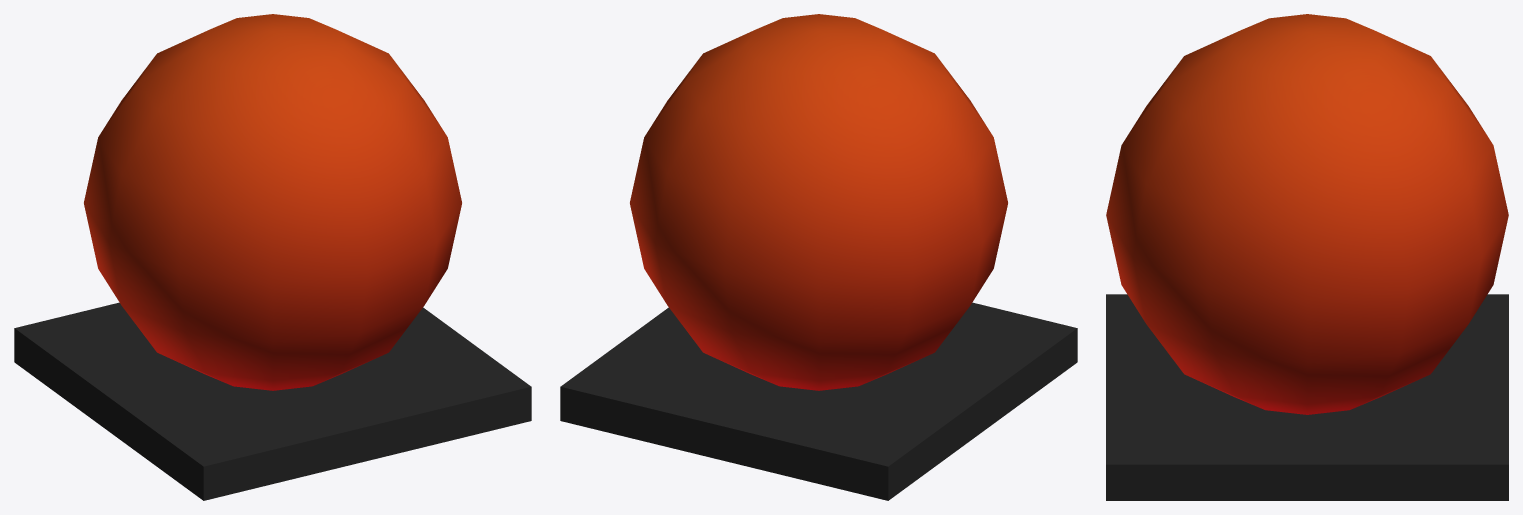
3 views of the same model, side by side, from view 1: azimuth 30°, elevation 25°; view 2: azimuth 150°, elevation 25°; view 3: azimuth 270°, elevation 25° (orthographic). The views are drawn at different scales.
Visible parts, largest first — view 1: Body, Trim; view 2: Body, Trim; view 3: Body, Trim.
Boxes of the visible parts, <box> form: Body: <box>84,14,461,390</box>; Trim: <box>14,302,531,500</box>; Body: <box>630,14,1007,390</box>; Trim: <box>560,302,1077,500</box>; Body: <box>1106,14,1508,414</box>; Trim: <box>1106,294,1508,500</box>.
Size of the model in its own units: 1 by 1.05 by 1.
